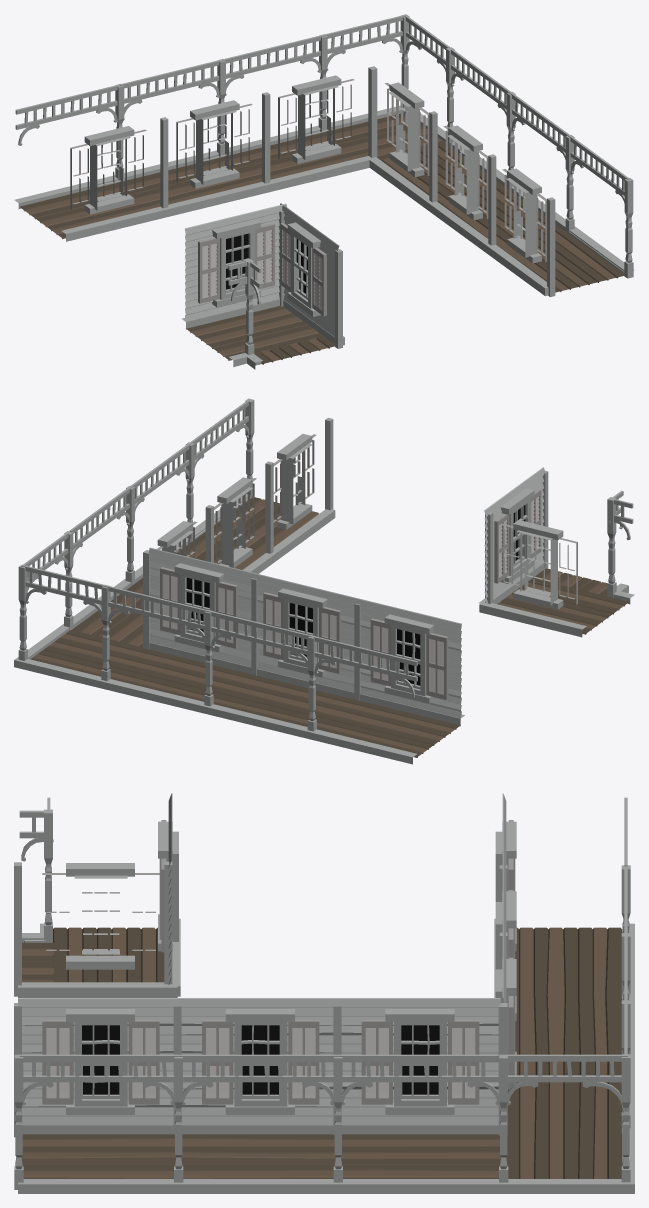
The model's file is SM_Bld_Mansion_Corner_01.glb.
3 renders of one model, top to bottom at view 1: azimuth 30°, elevation 25°; view 2: azimuth 150°, elevation 25°; view 3: azimuth 270°, elevation 25°, orthographic. The views are drawn at different scales.
Parts seen in each view (by area): view 1: SM_Bld_Mansion_Corner_01; view 2: SM_Bld_Mansion_Corner_01; view 3: SM_Bld_Mansion_Corner_01.
Boxes of the visible parts, left/top/right/bottom form: SM_Bld_Mansion_Corner_01: left=14, top=14, right=634, bottom=369; SM_Bld_Mansion_Corner_01: left=14, top=398, right=634, bottom=764; SM_Bld_Mansion_Corner_01: left=14, top=793, right=634, bottom=1193.
Bounding box in the file's own units: 0.1162 × 0.029 × 0.1167.
